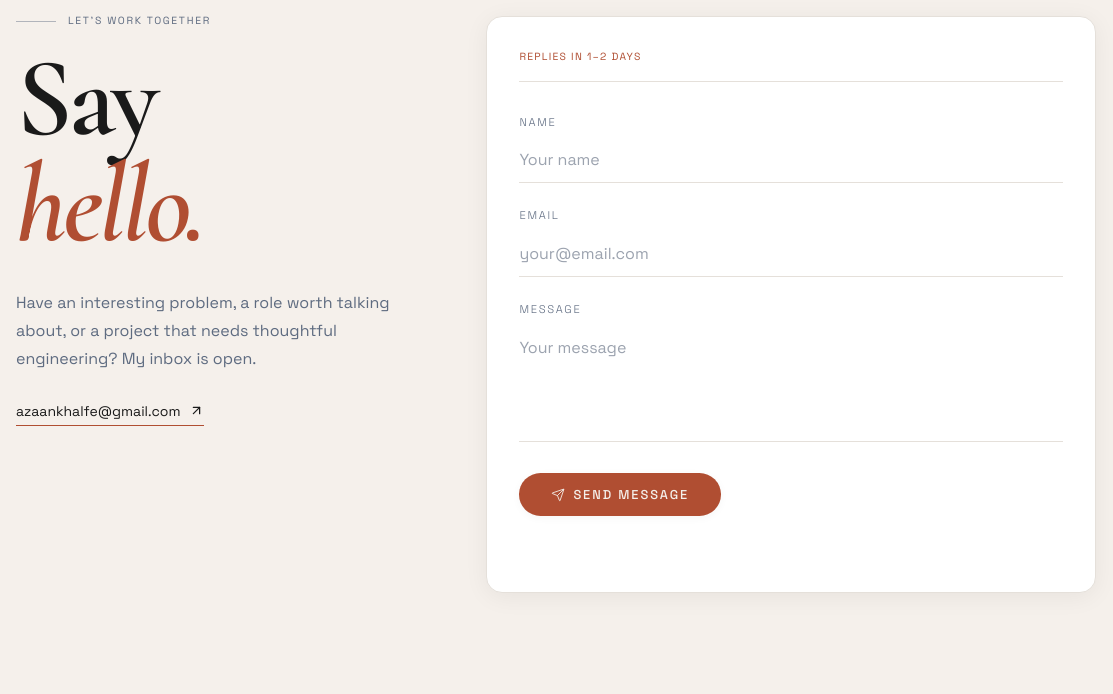
Test case: ContactPage › shows field errors, focuses the first invalid field, and does not submit
Click the button "Send Message" at (620, 495), box [519, 473, 721, 516]
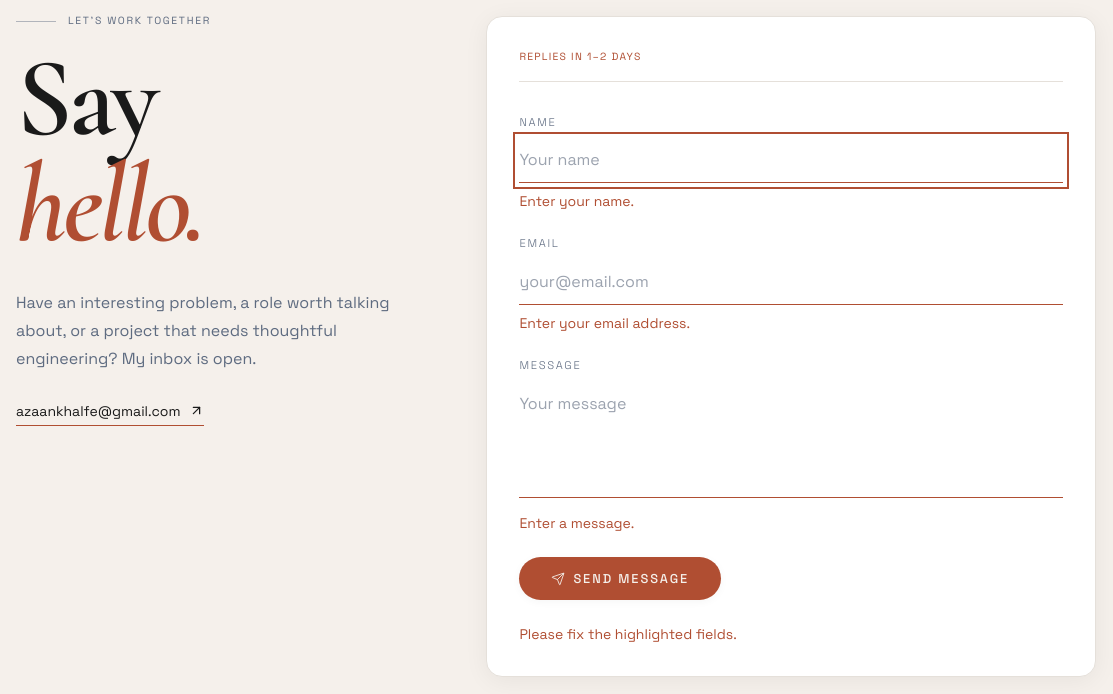
Expected: the text "Enter your name." is shown, [519, 192, 634, 210]
Expected: the text "Enter your email address." is shown, [519, 314, 690, 332]
Expected: the text "Enter a message." is shown, [519, 514, 634, 532]
